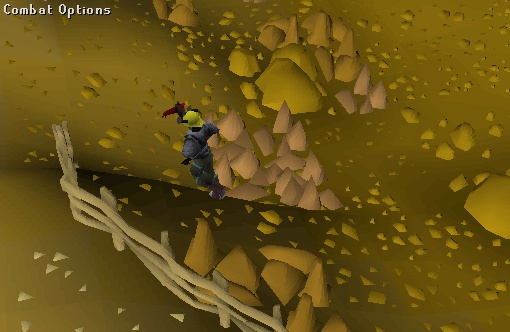granite: (246, 95, 315, 166)
sandstone: (156, 211, 277, 326), (302, 14, 382, 96)
